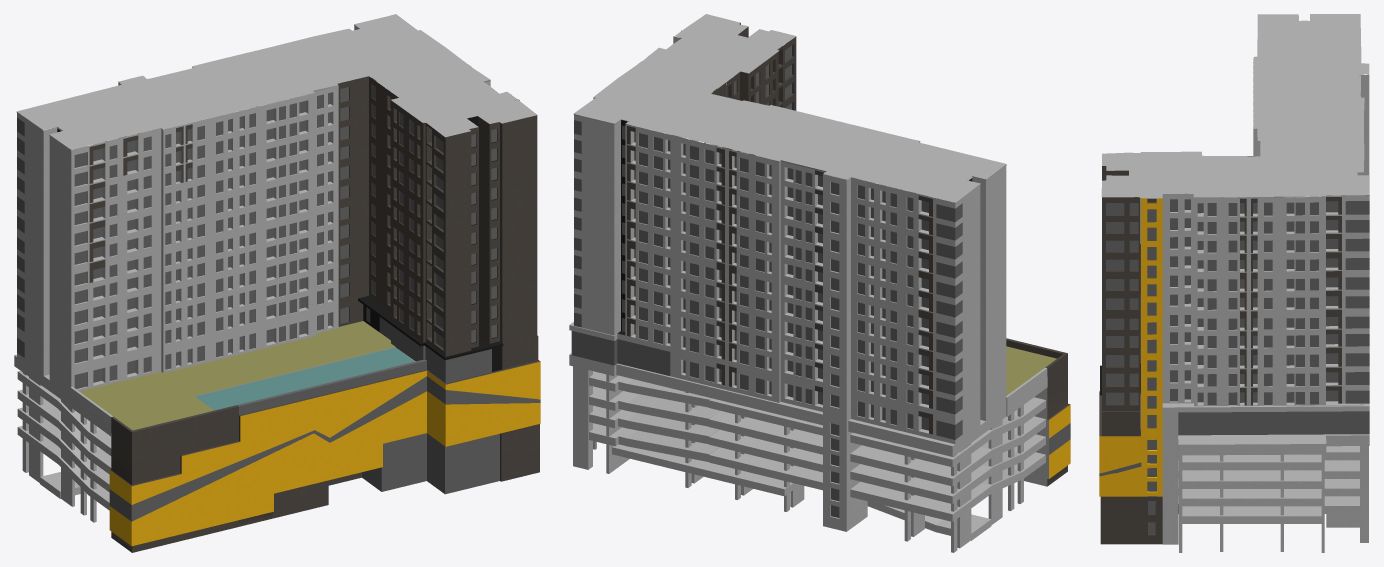
The model's file is final_cut12.glb.
The picture shows the model from 3 angles, left to right: view 1: azimuth 30°, elevation 25°; view 2: azimuth 150°, elevation 25°; view 3: azimuth 270°, elevation 25°; orthographic projection. The views are drawn at different scales.
Parts seen in each view (by area): view 1: cut:pPlane3 (×9); view 2: cut:pPlane3 (×7); view 3: cut:pPlane3 (×5).
Boxes of the visible parts, x1,y1,x2,y2 form: cut:pPlane3 (×9): (14,14,540,552); cut:pPlane3 (×7): (569,14,1070,552); cut:pPlane3 (×5): (1099,14,1369,552).
Bounding box in the file's own units: 4.69 × 3.95 × 2.77.
11 materials, 11 textured.
